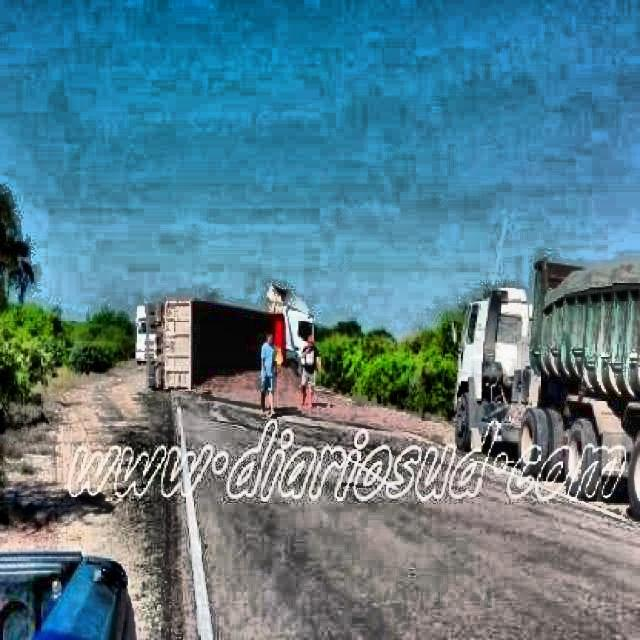dump_truck: (454, 247, 640, 516), (131, 276, 334, 402)
